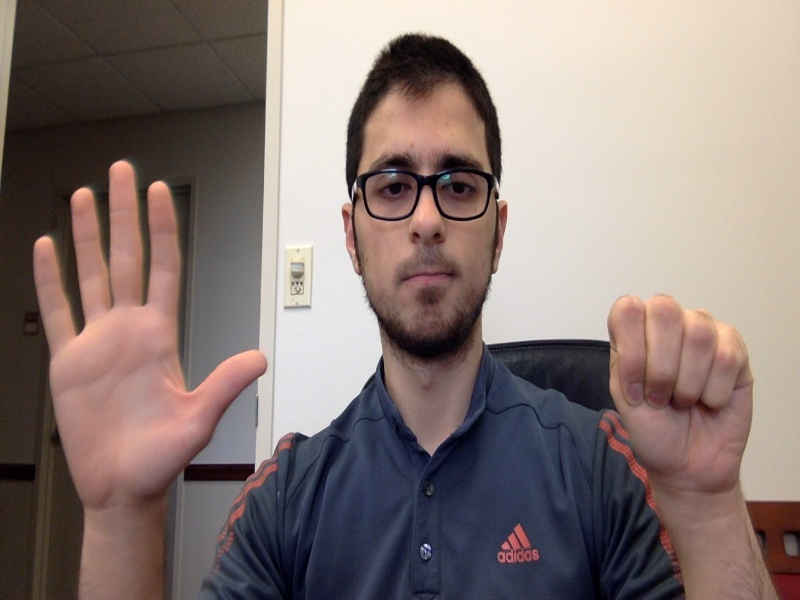0-hand: (609, 294, 754, 497)
5-hand: (33, 159, 266, 514)
